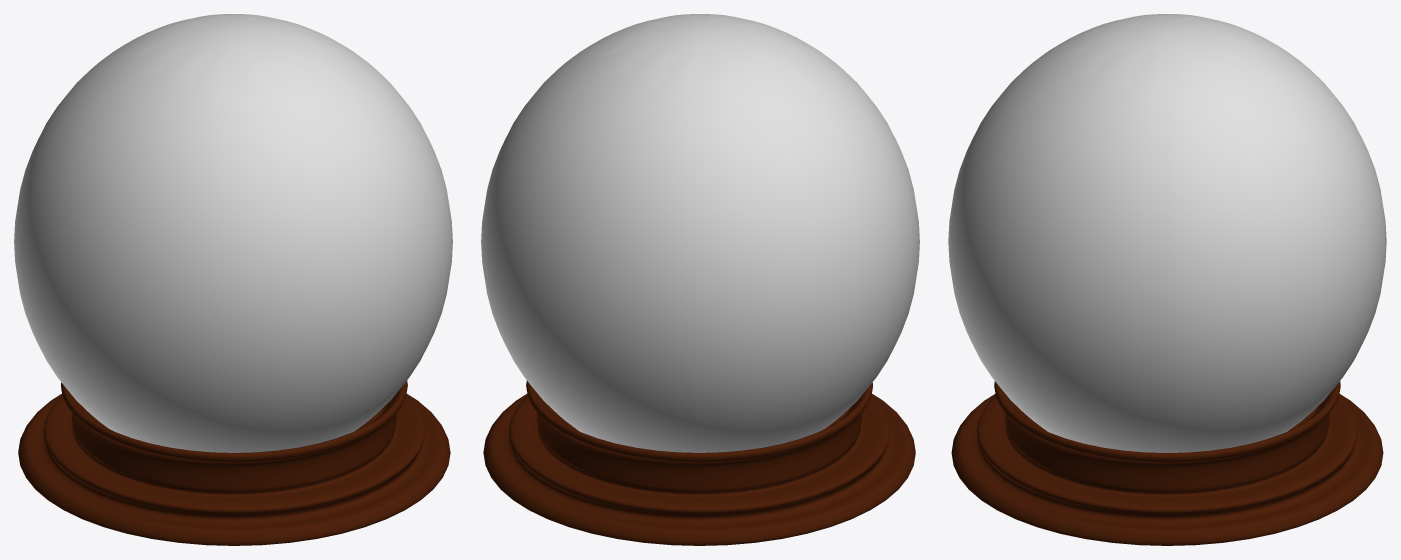
Rendered from snowglobe.obj.
3 renders of one model, left to right at view 1: azimuth 30°, elevation 25°; view 2: azimuth 150°, elevation 25°; view 3: azimuth 270°, elevation 25°, orthographic.
Visible parts, largest first — view 1: snowglobe; view 2: snowglobe; view 3: snowglobe.
Part boxes in pixels (x1,y1,x2,y2): snowglobe: (14, 14, 452, 545); snowglobe: (481, 14, 919, 545); snowglobe: (948, 14, 1386, 545).
Bounding box in the file's own units: 0.655 × 0.6975 × 0.655.
